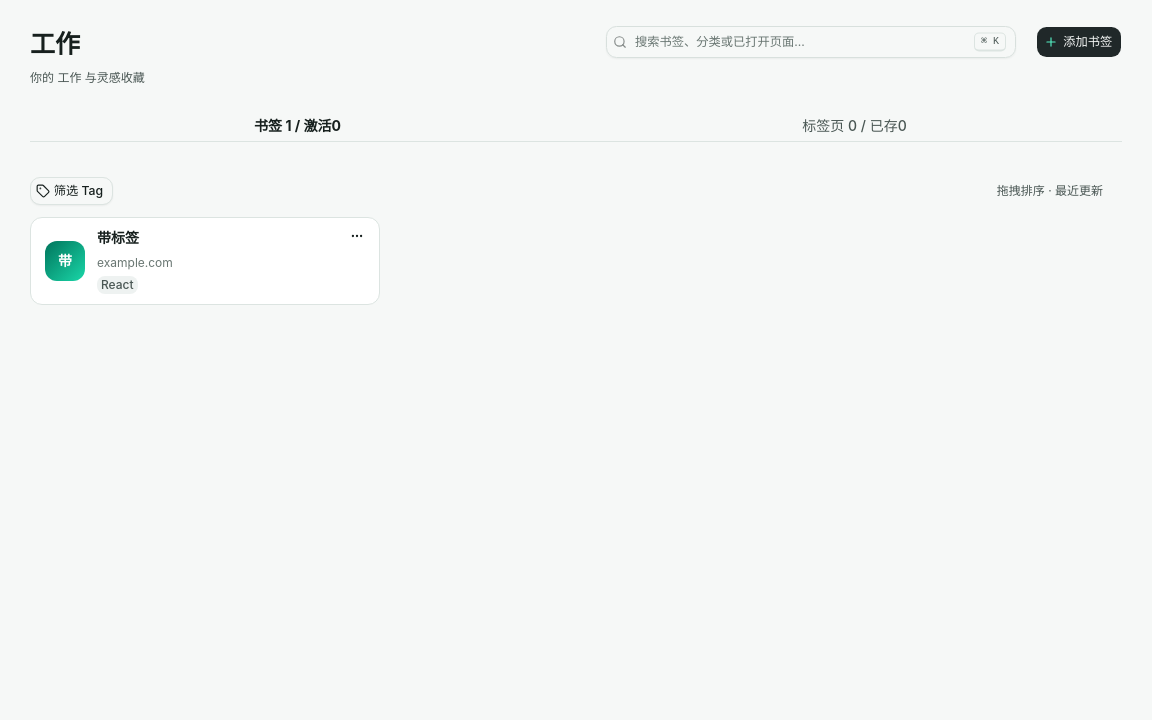
it: Content Tag 筛选器（#52） › 筛选按钮与打开 Popover › 点击筛选按钮 → 打开 Popover，显示可搜索输入框
Click the button "筛选 Tag" at (71, 191), box [30,177,113,205]
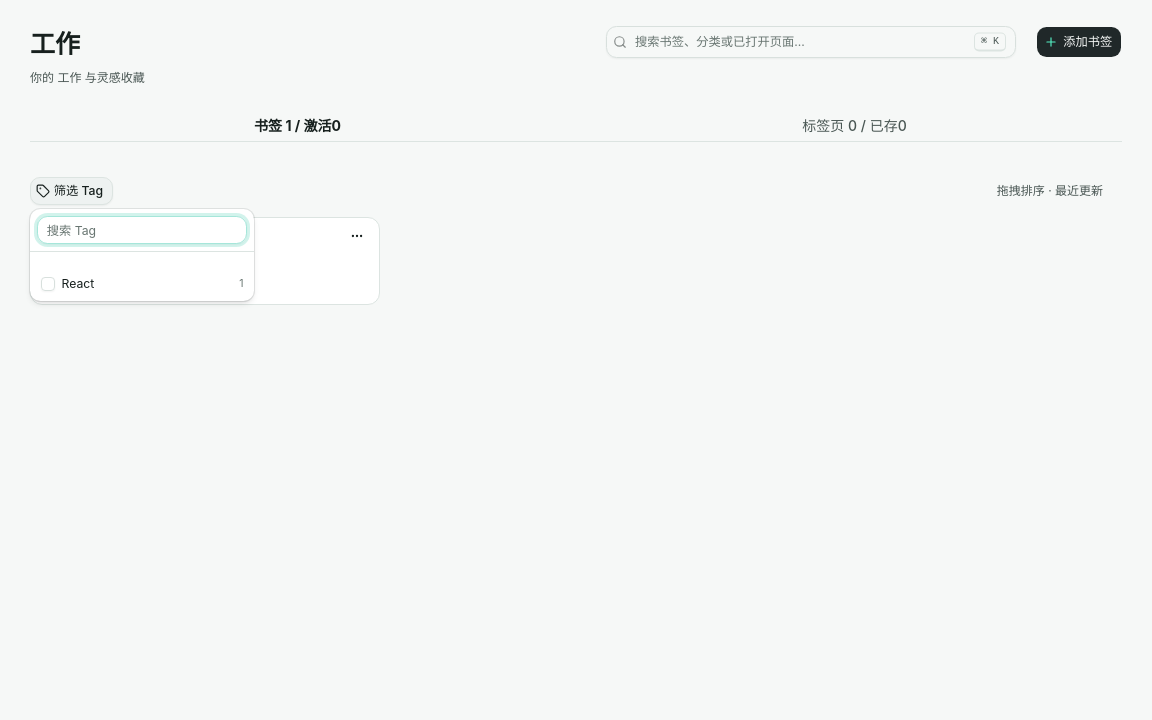
Result: the field with placeholder "搜索 Tag" is shown at [37,216,247,244]
